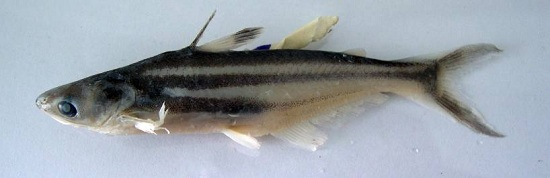fish: (45, 45, 389, 134)
